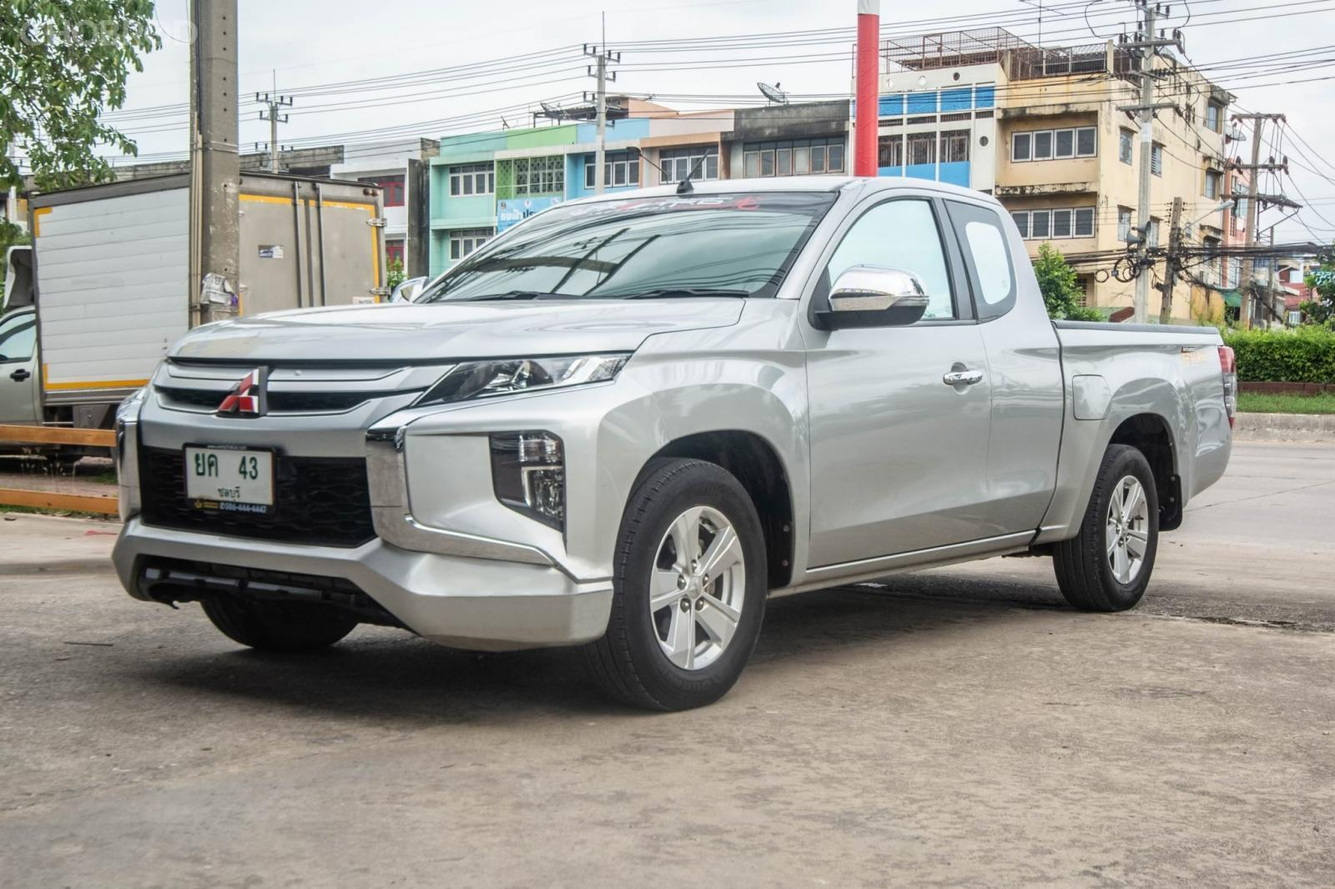license-plate: (179, 439, 285, 520)
